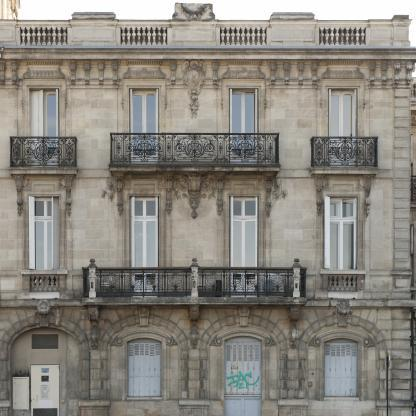Balcony: (81, 258, 308, 305)
Blind: (324, 342, 358, 397), (128, 343, 161, 397), (31, 89, 44, 167), (52, 196, 59, 269), (130, 196, 135, 297), (29, 196, 35, 270), (324, 196, 330, 269), (155, 196, 159, 297), (229, 196, 233, 297), (255, 196, 258, 297), (353, 197, 357, 269), (56, 89, 59, 167), (328, 89, 331, 167), (354, 89, 357, 167), (130, 88, 133, 163), (229, 88, 232, 163), (255, 88, 258, 163), (156, 88, 158, 163)
Building Outline: (0, 2, 416, 416)
Cornice: (308, 327, 376, 347), (111, 326, 178, 346), (210, 326, 277, 346), (321, 179, 365, 205), (22, 179, 66, 205), (122, 179, 166, 204), (222, 179, 266, 204), (322, 59, 365, 79), (22, 59, 65, 79), (123, 59, 166, 79), (222, 59, 265, 79)
Deco: (171, 172, 217, 219), (181, 59, 206, 119), (36, 299, 52, 328), (335, 299, 351, 327), (137, 306, 151, 327), (237, 306, 251, 327)
Door: (229, 218, 259, 298), (130, 218, 159, 298), (31, 365, 59, 416)
Facade: (1, 46, 411, 415)
Floor: (0, 177, 411, 307)
Floor Slab: (0, 300, 415, 307), (0, 170, 411, 177)
Ground Floor: (0, 307, 411, 416)
Molding: (0, 59, 413, 86)
Sill: (108, 164, 281, 171), (309, 167, 379, 176), (8, 167, 79, 174), (30, 292, 60, 299), (328, 292, 357, 299)
Top Floor: (0, 46, 411, 177)
Window: (224, 336, 262, 416), (329, 197, 358, 292), (31, 197, 59, 293), (328, 88, 358, 167), (29, 88, 59, 167), (130, 88, 160, 164), (229, 88, 259, 164), (324, 342, 358, 397), (128, 343, 161, 397), (229, 196, 259, 217), (130, 196, 159, 217), (13, 377, 29, 410), (32, 334, 58, 349)
